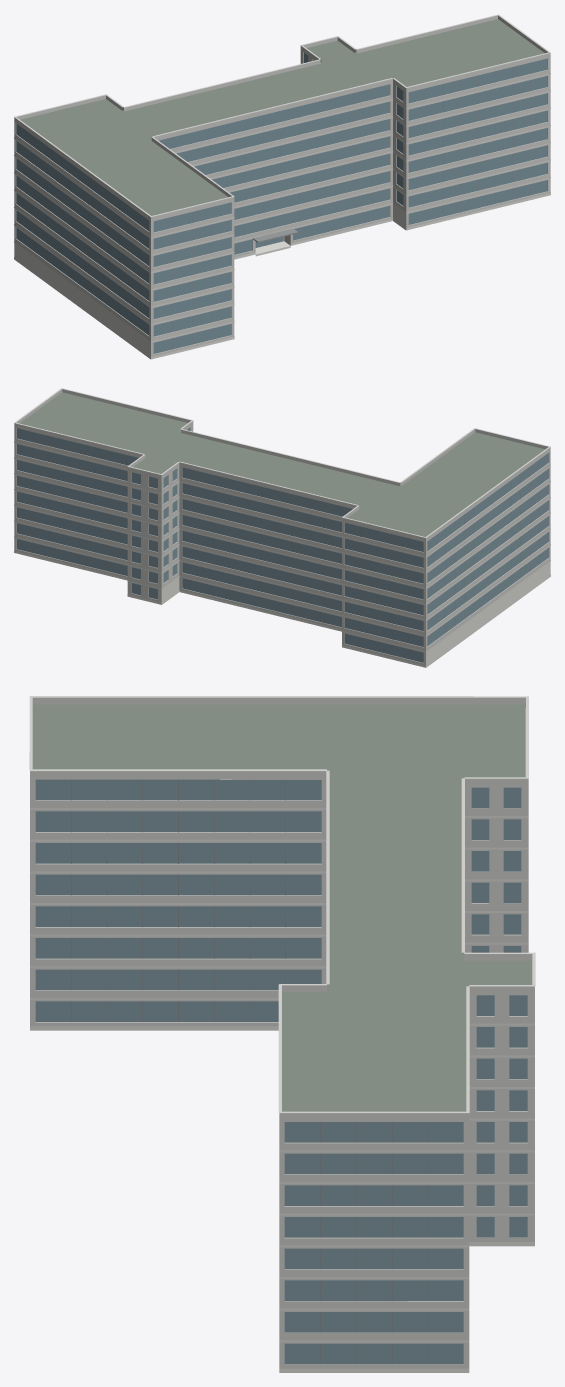
3 renders of one model, top to bottom at view 1: azimuth 30°, elevation 25°; view 2: azimuth 150°, elevation 25°; view 3: azimuth 270°, elevation 25°, orthographic. The views are drawn at different scales.
Parts seen in each view (by area): view 1: hakgwan__glass, hakgwan__wall, hakgwan__roof, hakgwan__trim, hakgwan__parapet, hakgwan__base, hakgwan__frame; view 2: hakgwan__glass, hakgwan__wall, hakgwan__roof, hakgwan__trim, hakgwan__parapet, hakgwan__base, hakgwan__frame; view 3: hakgwan__glass, hakgwan__roof, hakgwan__wall, hakgwan__trim, hakgwan__parapet, hakgwan__base, hakgwan__frame.
Part boxes in pixels (x1=…): hakgwan__glass: x1=16, y1=53, x2=547, y2=353; hakgwan__wall: x1=14, y1=49, x2=550, y2=356; hakgwan__roof: x1=20, y1=19, x2=544, y2=215; hakgwan__trim: x1=14, y1=14, x2=550, y2=342; hakgwan__parapet: x1=14, y1=15, x2=550, y2=220; hakgwan__base: x1=14, y1=193, x2=550, y2=359; hakgwan__frame: x1=26, y1=63, x2=530, y2=349; hakgwan__glass: x1=17, y1=427, x2=548, y2=662; hakgwan__wall: x1=14, y1=424, x2=550, y2=665; hakgwan__roof: x1=20, y1=392, x2=544, y2=536; hakgwan__trim: x1=14, y1=388, x2=550, y2=652; hakgwan__parapet: x1=14, y1=389, x2=550, y2=540; hakgwan__base: x1=14, y1=551, x2=550, y2=667; hakgwan__frame: x1=32, y1=432, x2=539, y2=658; hakgwan__glass: x1=35, y1=779, x2=527, y2=1364; hakgwan__roof: x1=32, y1=704, x2=532, y2=1111; hakgwan__wall: x1=30, y1=777, x2=534, y2=1368; hakgwan__trim: x1=29, y1=696, x2=535, y2=1342; hakgwan__parapet: x1=30, y1=697, x2=534, y2=1119; hakgwan__base: x1=30, y1=1026, x2=534, y2=1372; hakgwan__frame: x1=71, y1=779, x2=428, y2=1364.
Size of the model in its own units: 107 by 31.6 by 55.06.
